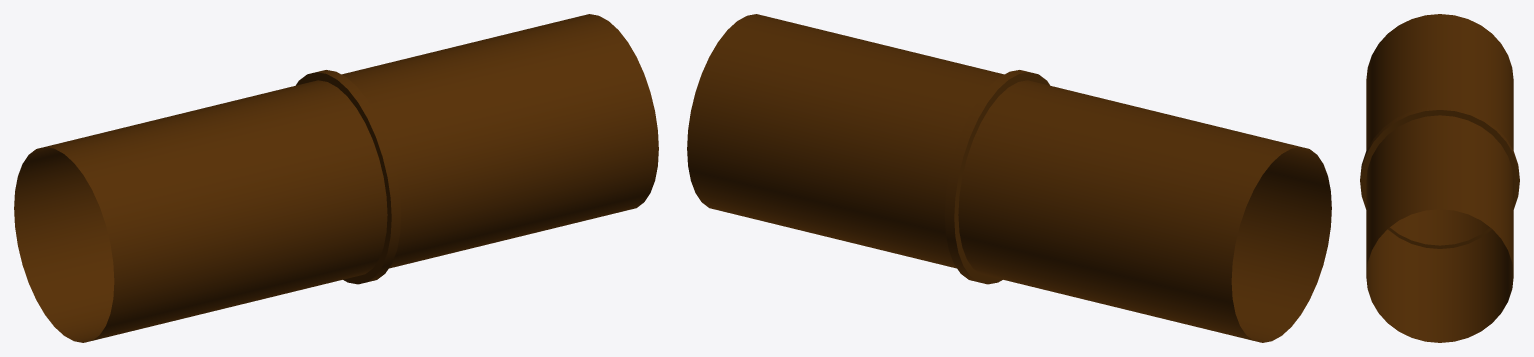
File: Pipe.fbx
The picture shows the model from 3 angles, left to right: view 1: azimuth 30°, elevation 25°; view 2: azimuth 150°, elevation 25°; view 3: azimuth 270°, elevation 25°; orthographic projection. The views are drawn at different scales.
Visible parts, largest first — view 1: Pipe; view 2: Pipe; view 3: Pipe.
Part boxes in pixels (<box>): Pipe: <box>14,14,658,342</box>; Pipe: <box>687,14,1331,342</box>; Pipe: <box>1360,14,1519,342</box>.
Bounding box in the file's own units: 85.88 × 29.68 × 29.68.
